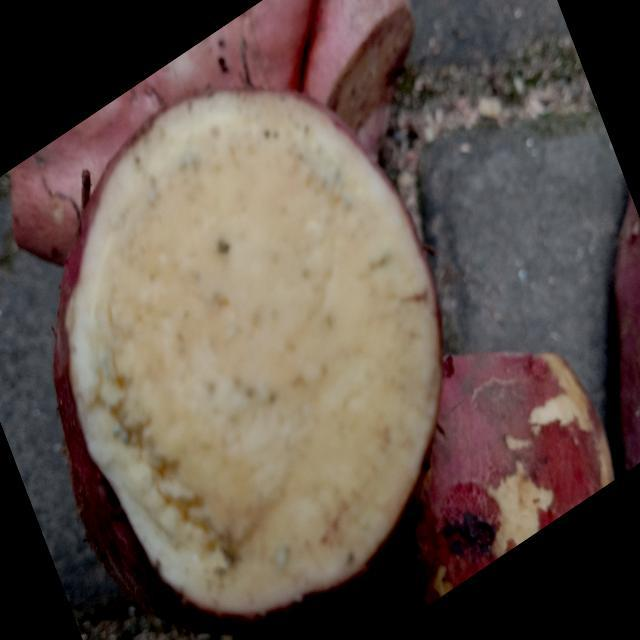Healthy Sweet Potato: (54, 92, 441, 633)
